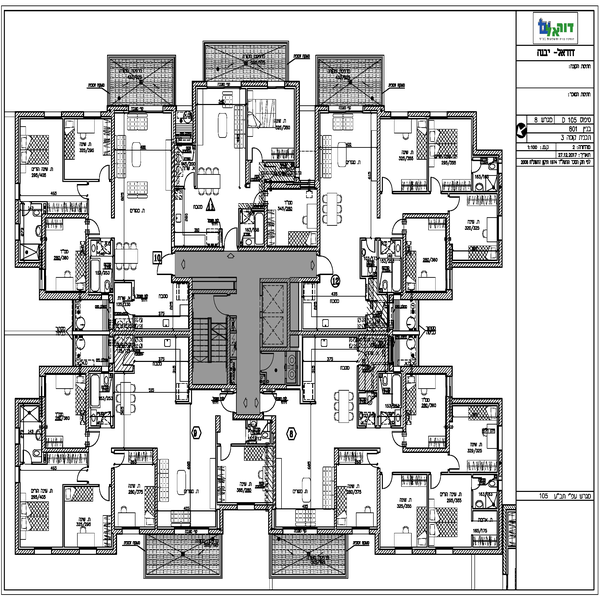door: (153, 254, 180, 281), (389, 427, 412, 456), (315, 253, 338, 280), (219, 226, 241, 254), (260, 389, 283, 414), (444, 196, 468, 218), (388, 213, 408, 238), (377, 174, 398, 195), (216, 441, 237, 462), (447, 451, 467, 473), (82, 428, 105, 447), (221, 389, 238, 414), (85, 214, 105, 235), (214, 294, 234, 315), (424, 176, 446, 195), (77, 182, 95, 204), (76, 465, 96, 484), (96, 483, 116, 502), (365, 451, 382, 473), (425, 475, 447, 491), (471, 473, 487, 494), (380, 472, 396, 492), (260, 354, 277, 372), (249, 144, 265, 163), (111, 449, 127, 467), (183, 172, 197, 192), (98, 162, 110, 184), (22, 445, 35, 463), (367, 235, 377, 254)
wall: (13, 112, 20, 267), (153, 447, 161, 533), (15, 484, 23, 556), (496, 494, 507, 543), (406, 364, 454, 375), (109, 480, 116, 555), (315, 98, 321, 183), (191, 82, 198, 143), (332, 451, 337, 532), (451, 398, 501, 406), (448, 261, 503, 268), (457, 548, 503, 556), (241, 79, 271, 90), (402, 367, 407, 432), (241, 245, 317, 248), (472, 117, 478, 155), (448, 111, 477, 118)
